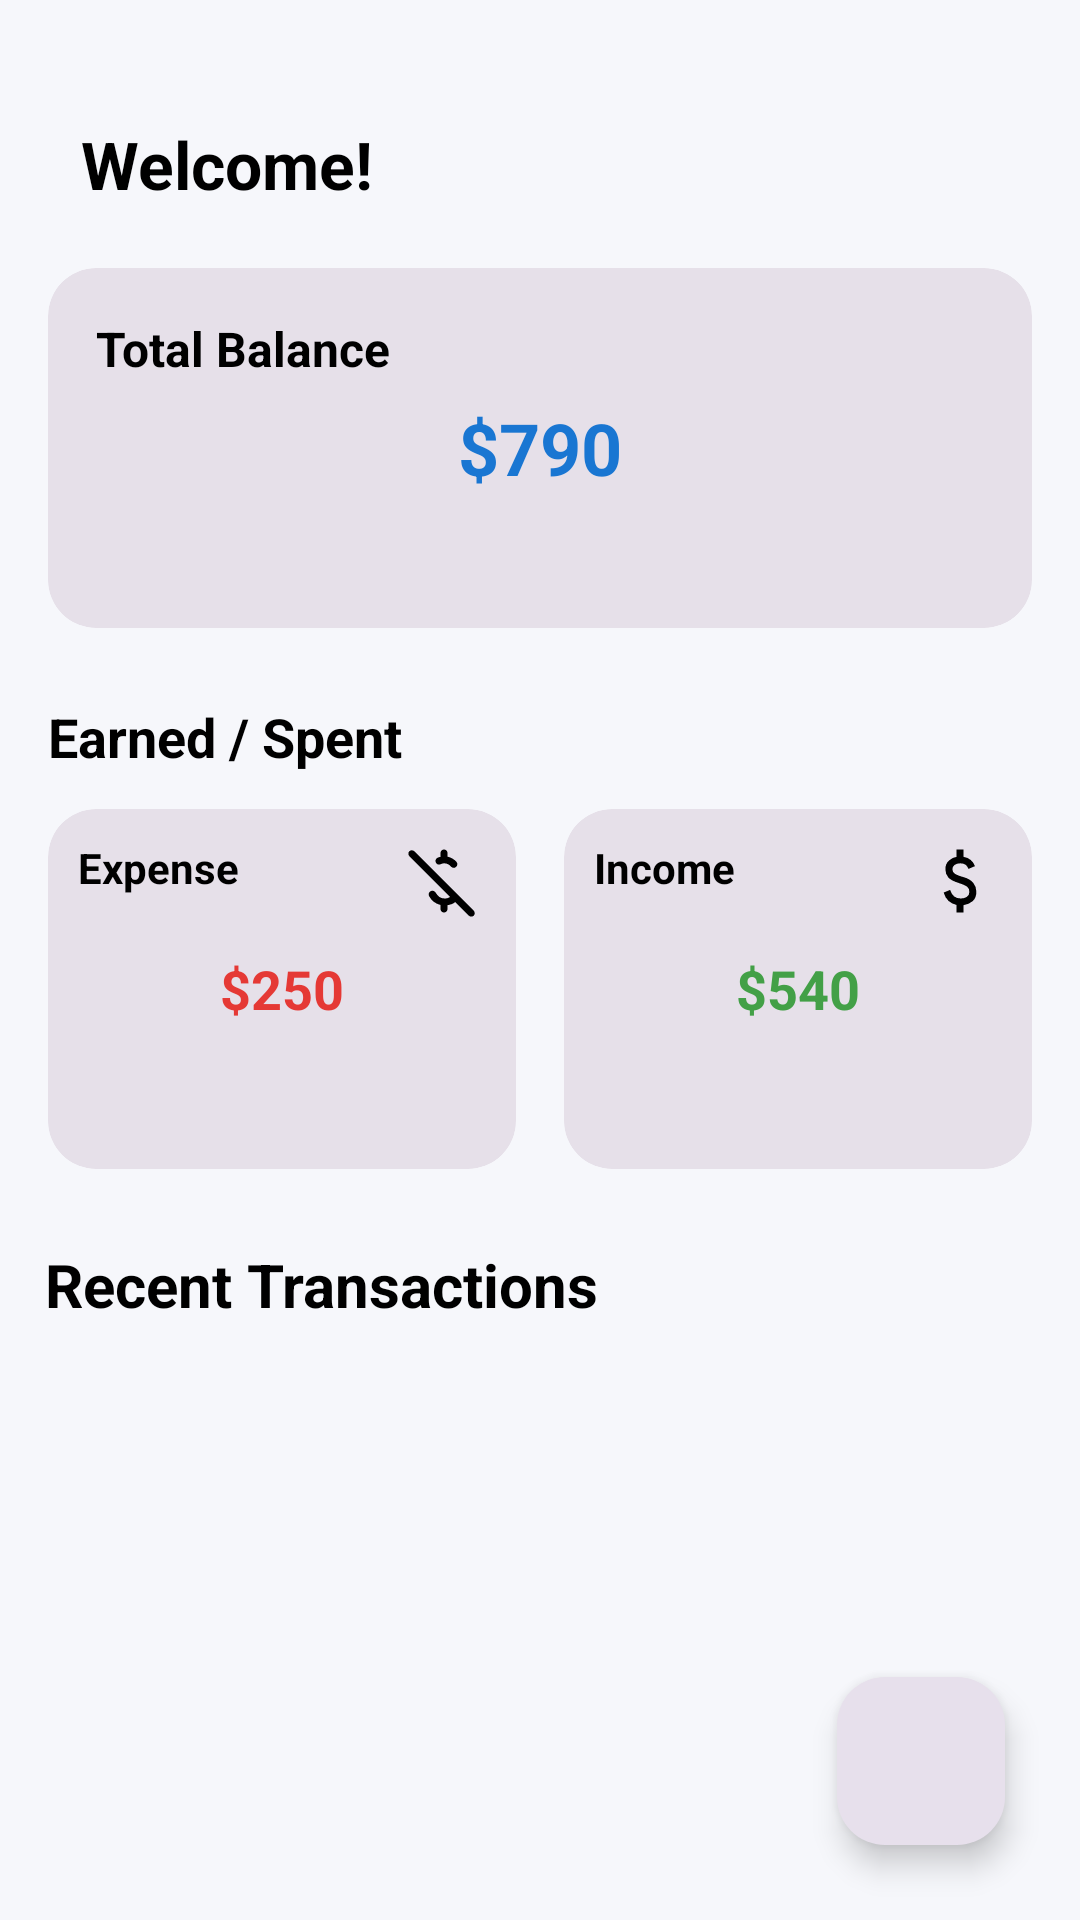

Icon bounding boxes for this 1080*1920 phone screenshot, format bbox=[x1, y1, x2, y2]:
expense: bbox=[408, 849, 475, 917]
income: bbox=[943, 849, 977, 913]
